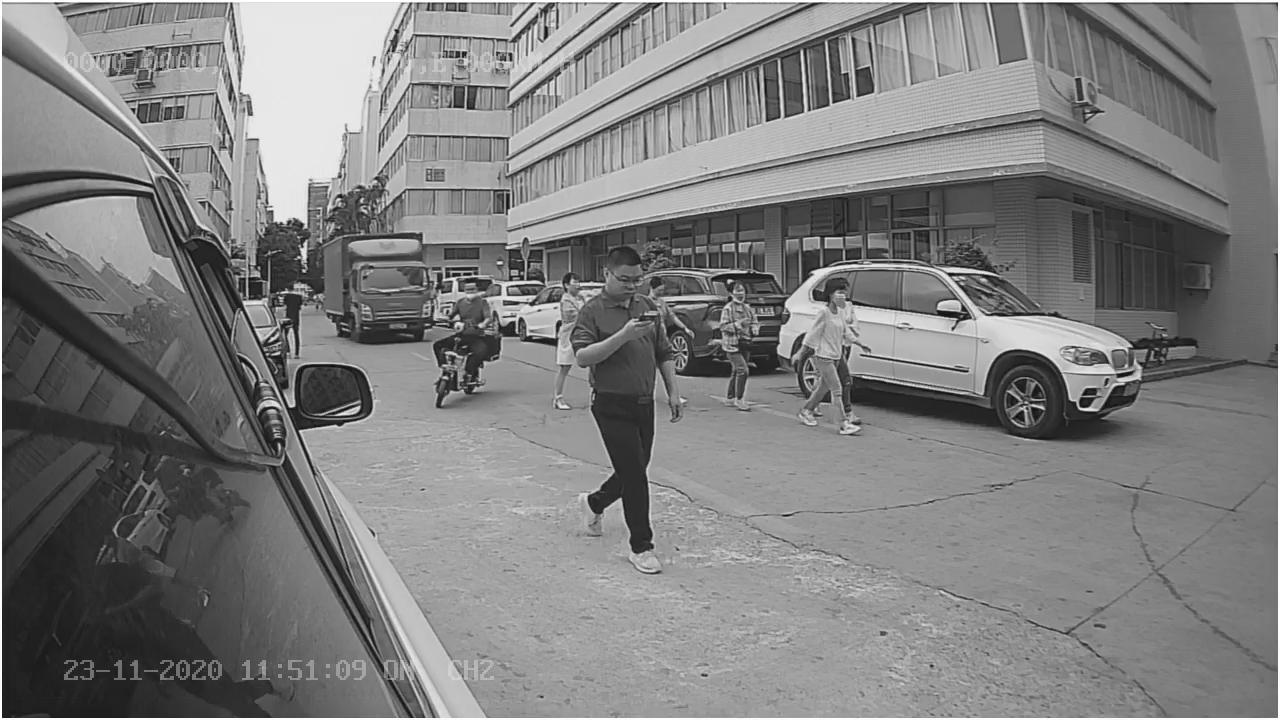person: (565, 245, 691, 576), (714, 271, 766, 413), (442, 270, 498, 327)
